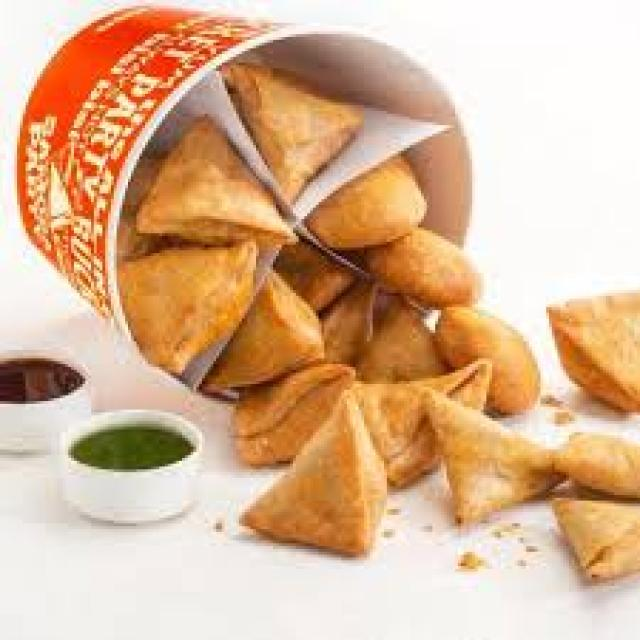SAMOSA: (427, 390, 637, 521), (245, 398, 384, 549), (139, 119, 287, 239), (119, 242, 256, 370), (230, 65, 361, 196), (210, 273, 321, 387), (236, 364, 353, 461), (549, 290, 637, 410), (310, 156, 424, 247), (438, 307, 538, 407), (370, 230, 478, 304), (358, 296, 444, 378), (552, 498, 637, 577), (555, 435, 637, 498), (279, 245, 356, 310), (321, 284, 370, 361)
